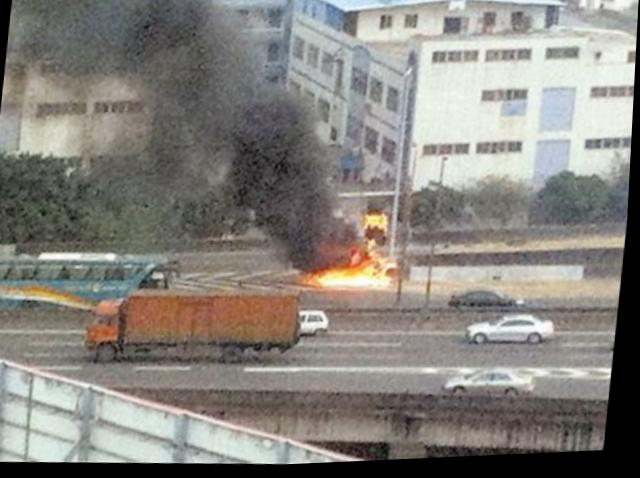fire: (303, 208, 404, 299)
